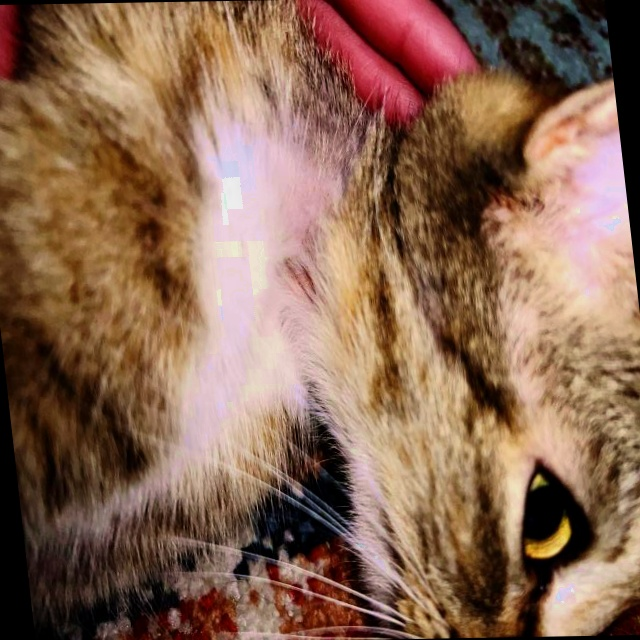hairloss: (259, 123, 363, 331)
